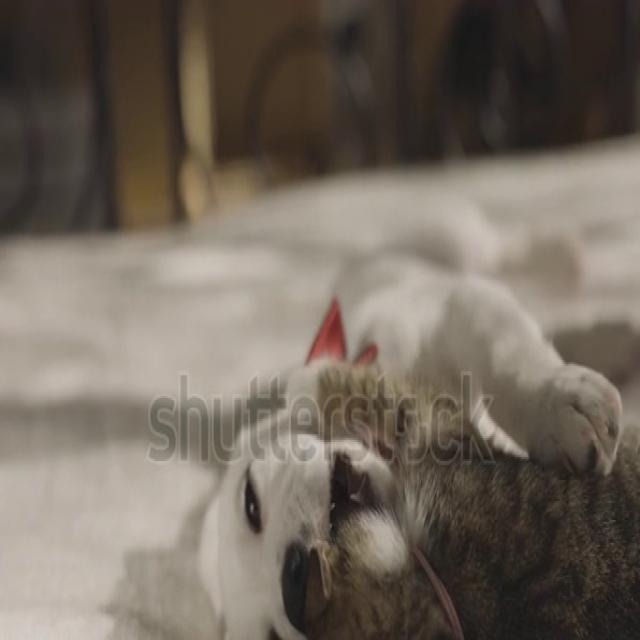normal_animals: (174, 173, 640, 640)
